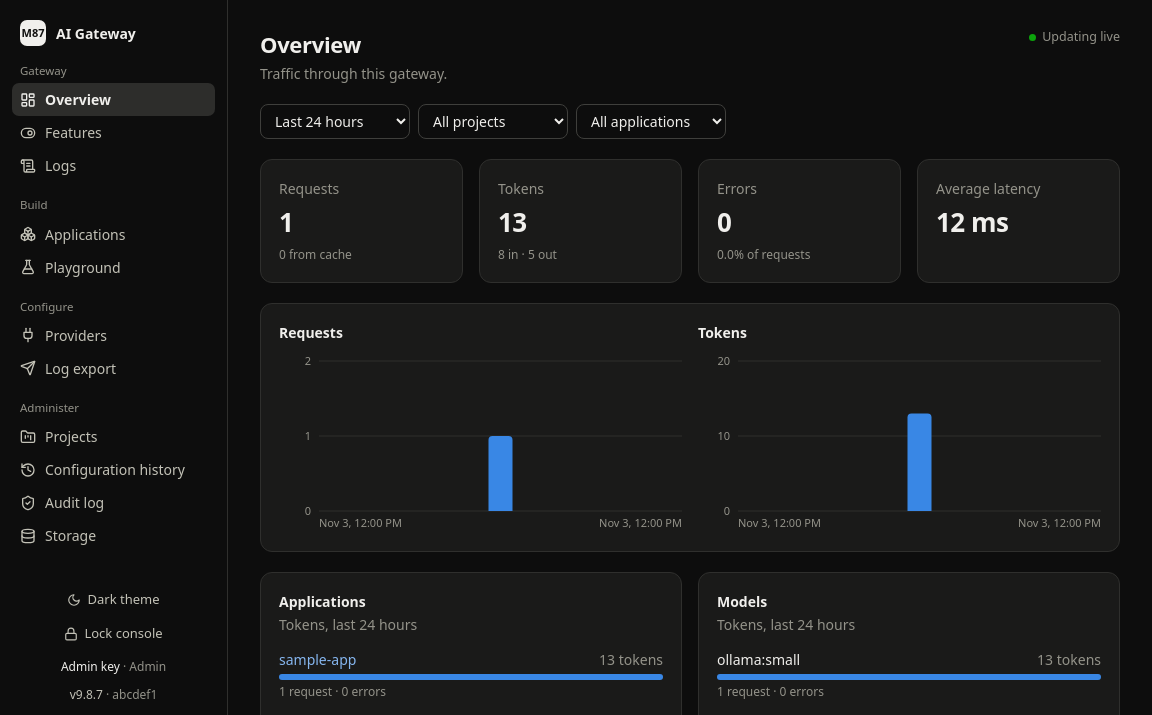
Scenario: filters › keeps filters while moving between pages
Select "sample-app" in the dropdown named "Application" at (651, 122), box [576,104,726,139]
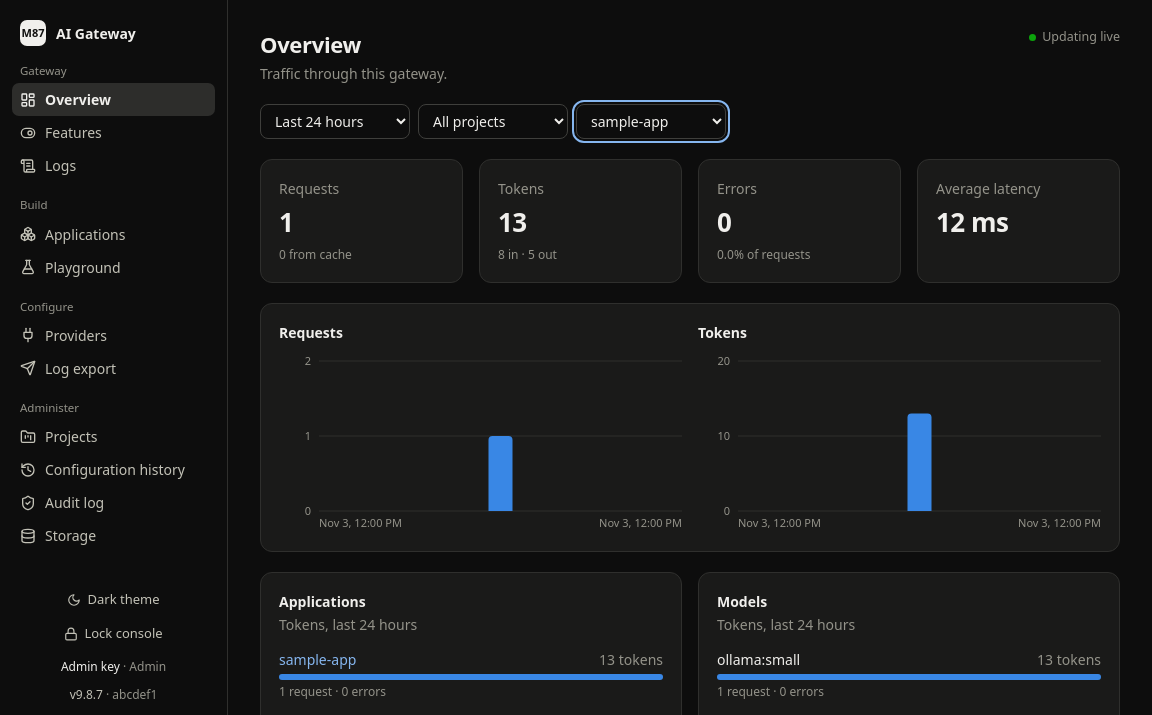
Click the link "Logs" at (48, 166), box [20,156,76,175]
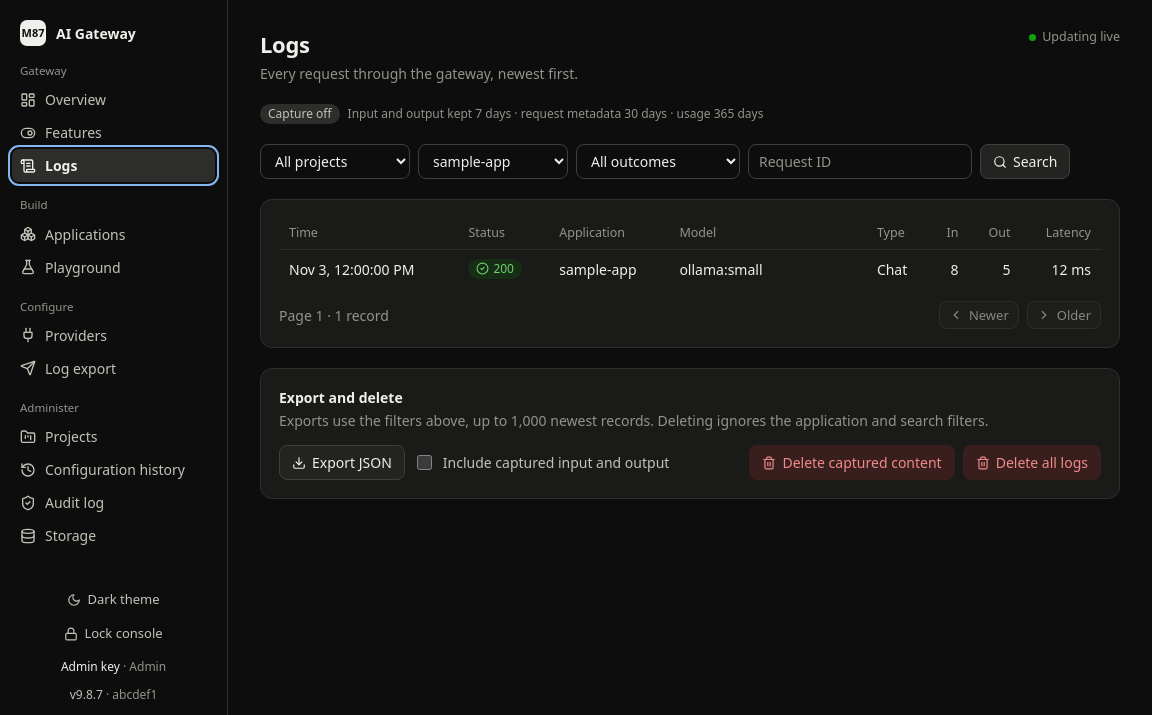
Check: the dropdown named "Application" shows "sample-app", box [418,144,568,179]
